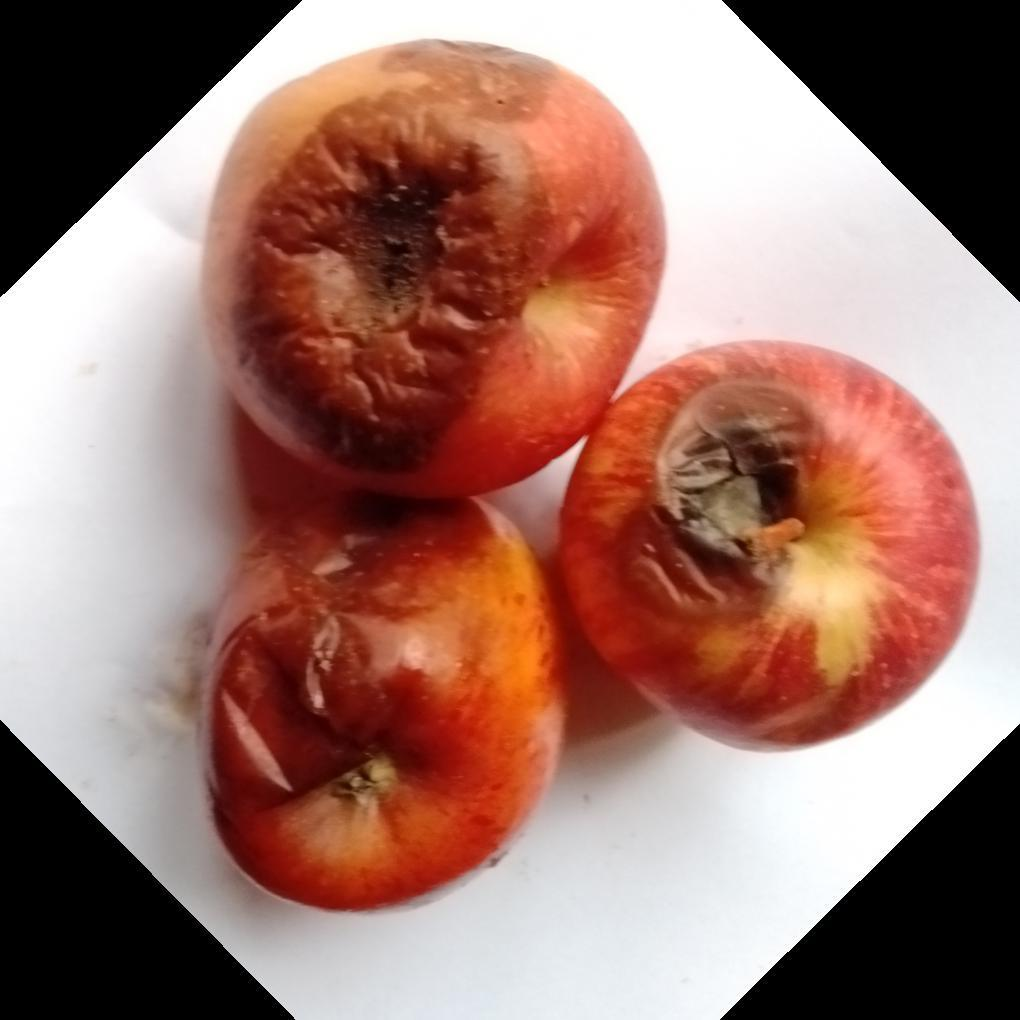FreshOrange: (196, 40, 980, 917)
